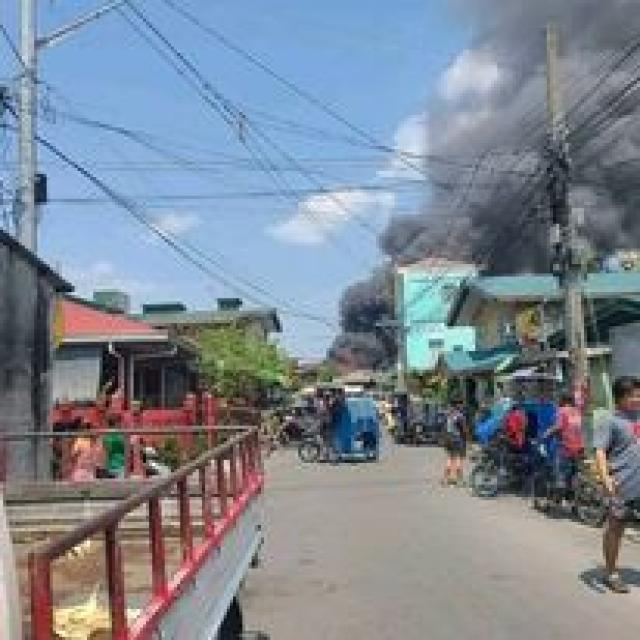Smoke: (475, 12, 640, 264), (388, 180, 510, 259), (334, 276, 389, 356)
